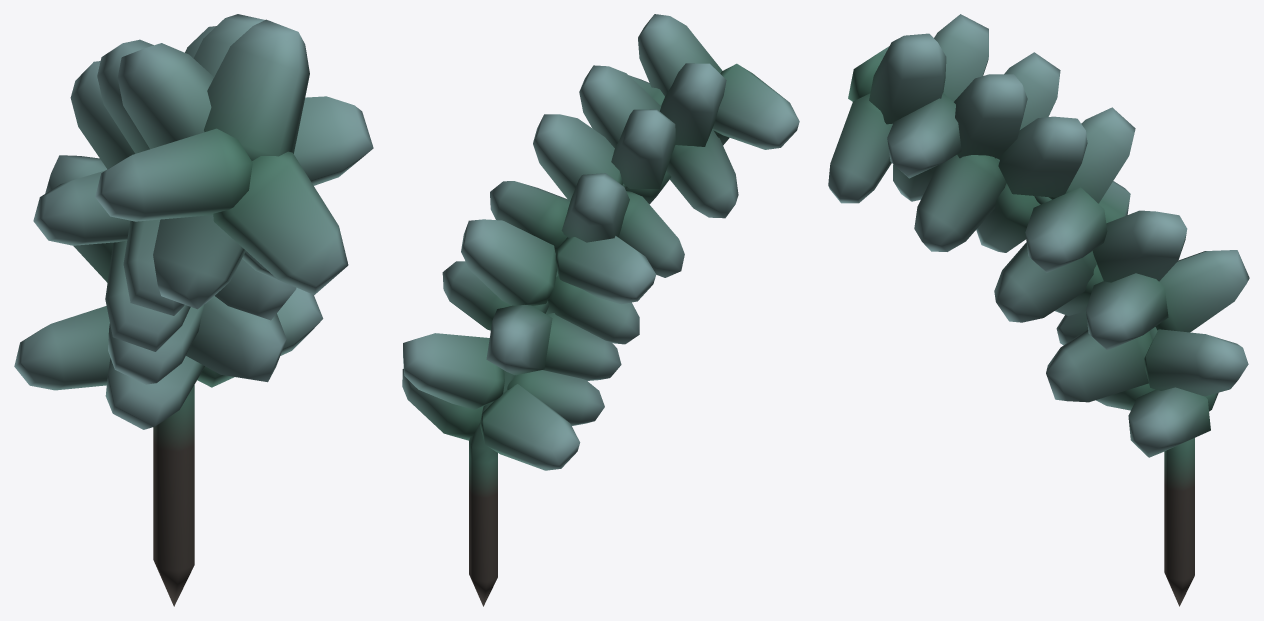
File: plants-cacti-succulents-burro-s-tail_v2.fbx
3 views of the same model, side by side, from view 1: azimuth 30°, elevation 25°; view 2: azimuth 150°, elevation 25°; view 3: azimuth 270°, elevation 25° (orthographic). The views are drawn at different scales.
Parts seen in each view (by area): view 1: Burro's Tail_v2; view 2: Burro's Tail_v2; view 3: Burro's Tail_v2.
Part boxes in pixels (<box>): Burro's Tail_v2: <box>14,14,373,606</box>; Burro's Tail_v2: <box>402,14,799,606</box>; Burro's Tail_v2: <box>828,14,1249,606</box>.
Bounding box in the file's own units: 0.1667 × 0.3 × 0.2115.
